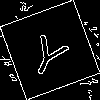Y: (25, 25, 75, 81)
